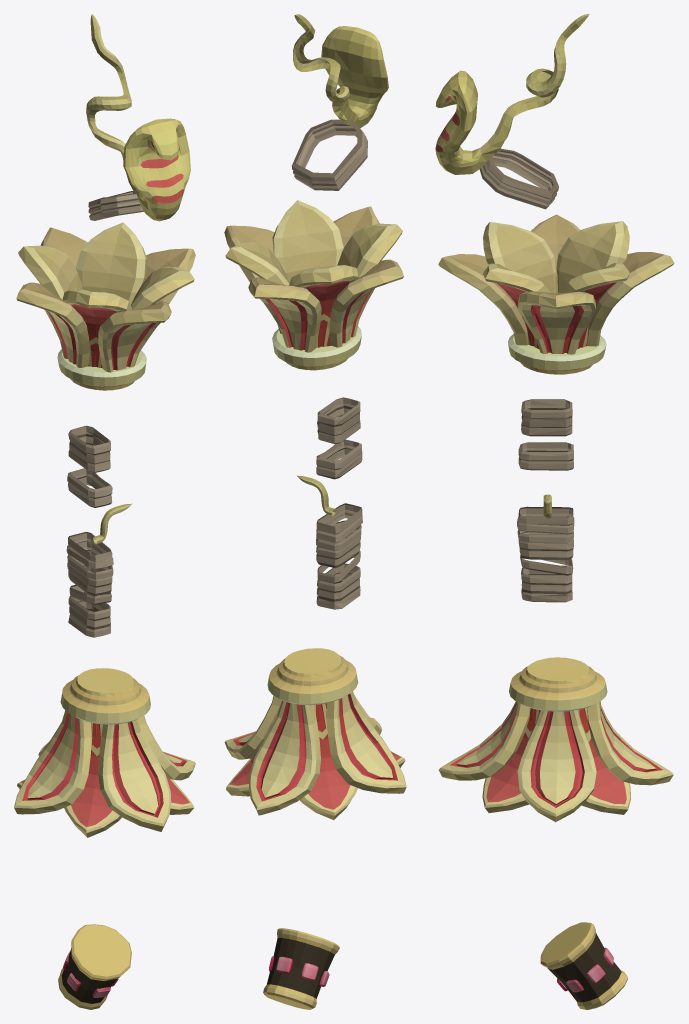
The model's file is largeBowAncientEgyptianHandle.glb.
3 views of the same model, side by side, from view 1: azimuth 30°, elevation 25°; view 2: azimuth 150°, elevation 25°; view 3: azimuth 270°, elevation 25° (orthographic).
Visible parts, largest first — view 1: largeBowAncientEgyptianHandle; view 2: largeBowAncientEgyptianHandle; view 3: largeBowAncientEgyptianHandle.
Boxes of the visible parts, left/top/right/bottom form: largeBowAncientEgyptianHandle: left=14, top=14, right=195, bottom=1009; largeBowAncientEgyptianHandle: left=224, top=14, right=406, bottom=1009; largeBowAncientEgyptianHandle: left=435, top=14, right=674, bottom=1009.
Bounding box in the file's own units: 0.2718 × 1.42 × 0.3088.
